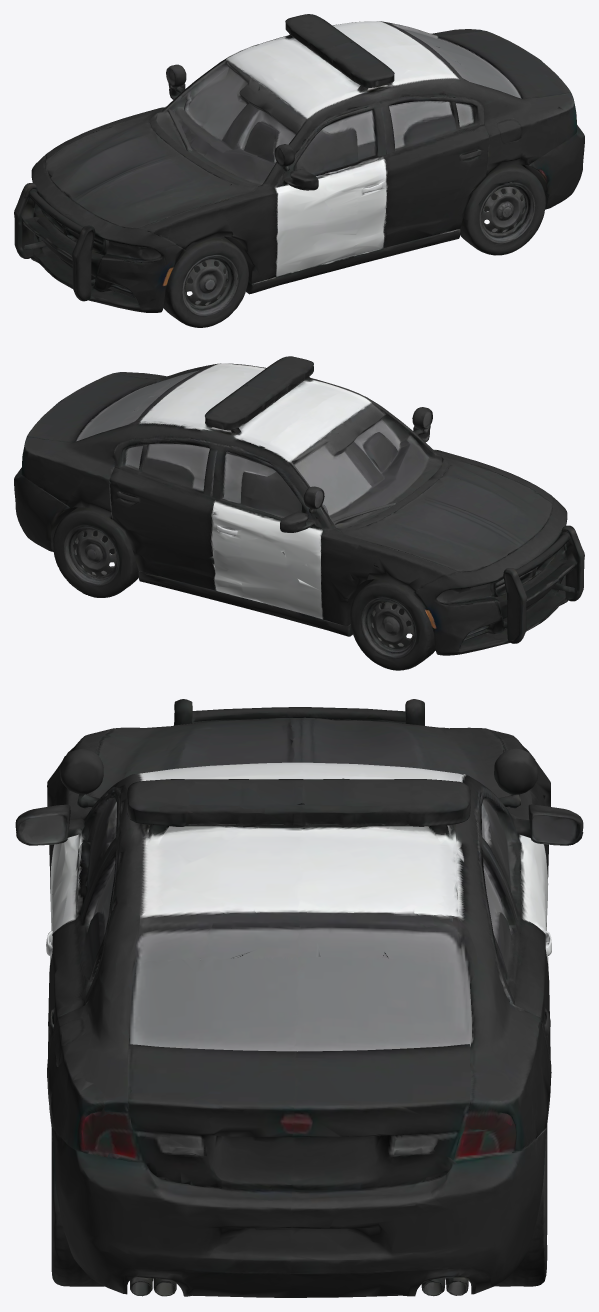
Rendered from police.glb.
3 views of the same model, one above another, from view 1: azimuth 30°, elevation 25°; view 2: azimuth 150°, elevation 25°; view 3: azimuth 270°, elevation 25° (orthographic). The views are drawn at different scales.
Parts seen in each view (by area): view 1: tripo_node_abd64f3f-b06b-4d4d-9245-e8f51a94a115; view 2: tripo_node_abd64f3f-b06b-4d4d-9245-e8f51a94a115; view 3: tripo_node_abd64f3f-b06b-4d4d-9245-e8f51a94a115.
Boxes of the visible parts, bbox=[...] form: tripo_node_abd64f3f-b06b-4d4d-9245-e8f51a94a115: bbox=[14, 14, 584, 327]; tripo_node_abd64f3f-b06b-4d4d-9245-e8f51a94a115: bbox=[14, 356, 584, 670]; tripo_node_abd64f3f-b06b-4d4d-9245-e8f51a94a115: bbox=[15, 699, 583, 1297].
Size of the model in its own units: 0.9794 by 0.3563 by 0.4781.
1 material, 1 textured.
